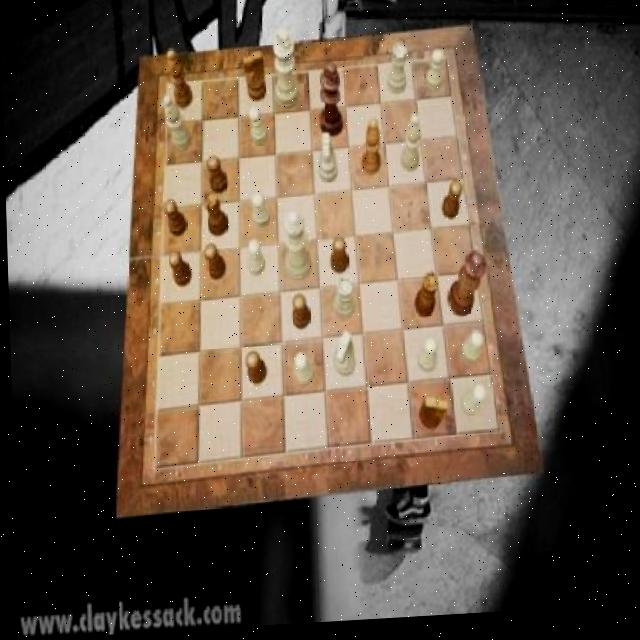bishop: (168, 51, 194, 112), (360, 121, 382, 180)
black-bishop: (317, 66, 343, 142)
black-king: (243, 52, 267, 104), (416, 401, 447, 437)
black-knight: (162, 201, 186, 239), (201, 245, 225, 282), (440, 186, 462, 226), (168, 252, 191, 290), (207, 159, 228, 197), (244, 353, 266, 388), (290, 297, 309, 334), (328, 241, 346, 278)
black-pawn: (445, 256, 487, 323)
black-queen: (413, 275, 439, 322), (201, 193, 227, 240)
black-rook: (163, 96, 192, 155), (400, 119, 422, 178)
white-bishop: (273, 29, 300, 113)
white-king: (331, 335, 354, 381), (318, 137, 339, 187)
white-knight: (458, 389, 484, 422), (459, 335, 482, 370), (425, 55, 443, 97), (416, 342, 437, 377), (245, 240, 263, 279), (248, 110, 266, 149), (292, 355, 311, 390), (250, 196, 268, 231)
white-pawn: (282, 213, 311, 286)
white-queen: (388, 47, 409, 99), (331, 281, 353, 324)
